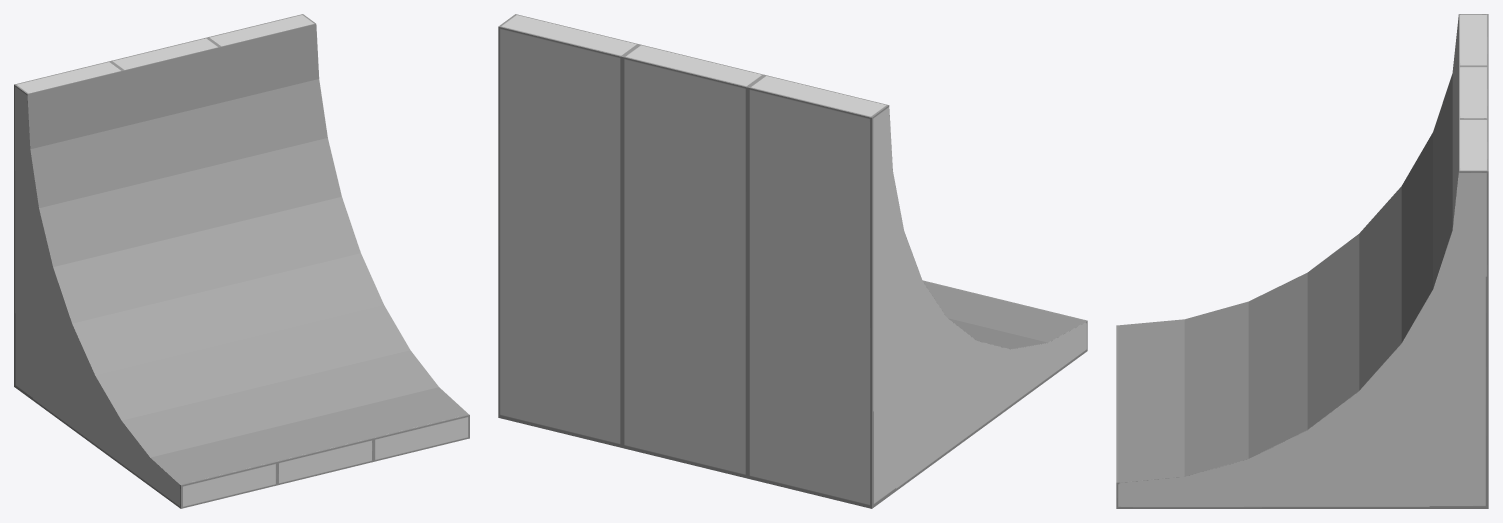
Rendered from slide besar.fbx.
The picture shows the model from 3 angles, left to right: view 1: azimuth 30°, elevation 25°; view 2: azimuth 150°, elevation 25°; view 3: azimuth 270°, elevation 25°; orthographic projection. The views are drawn at different scales.
Visible parts, largest first — view 1: slide besar; view 2: slide besar; view 3: slide besar.
Part boxes in pixels (<box>): slide besar: <box>14,14,469,508</box>; slide besar: <box>498,14,1087,508</box>; slide besar: <box>1116,14,1488,508</box>.
Size of the model in its own units: 900 by 900 by 900.
1 material, 1 textured.
